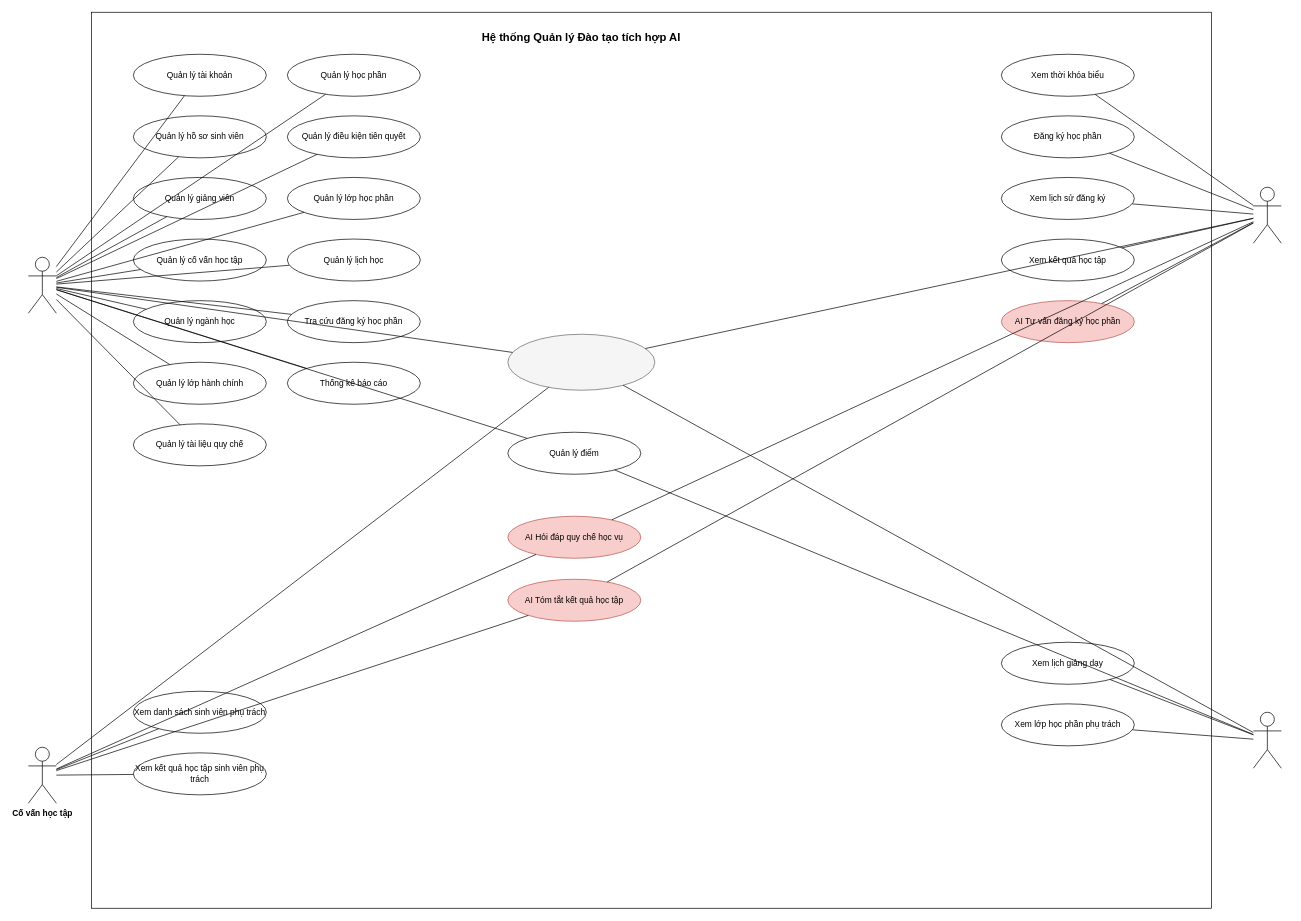
The diagram is 1301 pixels wide and 921 high, and some of its shapes have lost their labels. The shapes that lost their labels are listed below. From the top down, each one's centre as x and y in pixels, then its label:
At (x=1267, y=215): "Sinh viên".
At (x=42, y=285): "Phòng Đào tạo".
At (x=581, y=362): "Đăng nhập hệ thống".
At (x=1267, y=740): "Giảng viên".
